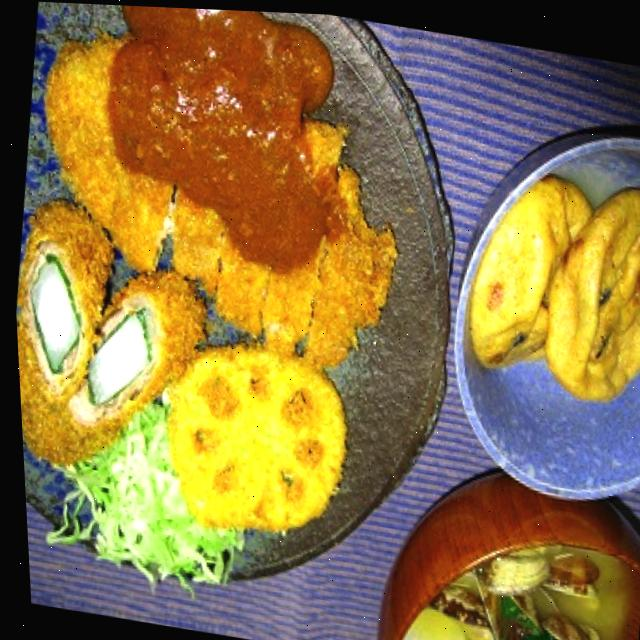熟制海鲜: (408, 123, 640, 449)
